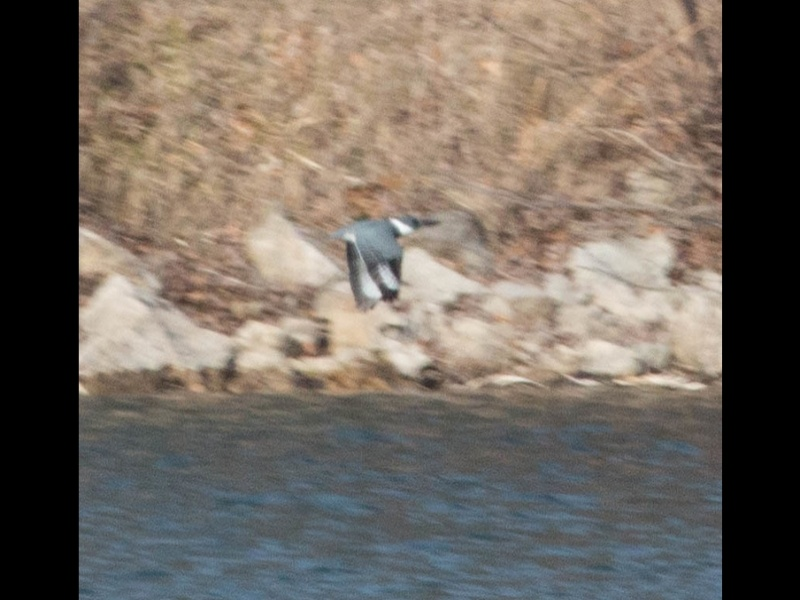kingfisher: (299, 210, 440, 316)
